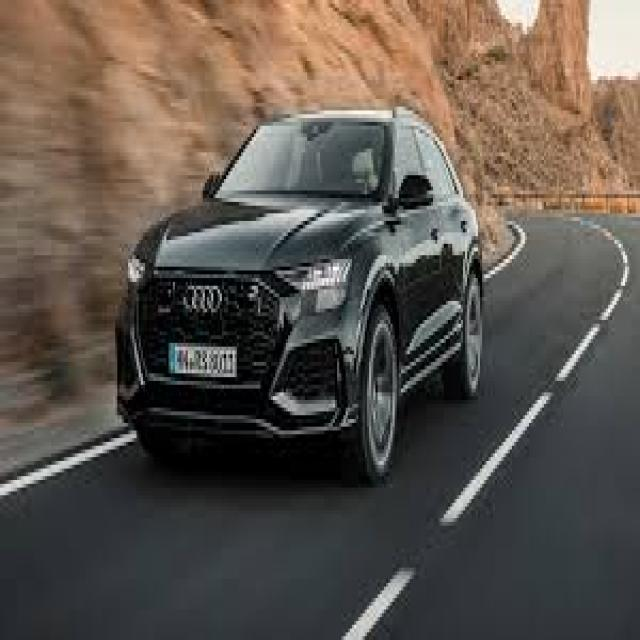Car: (116, 109, 480, 481)
